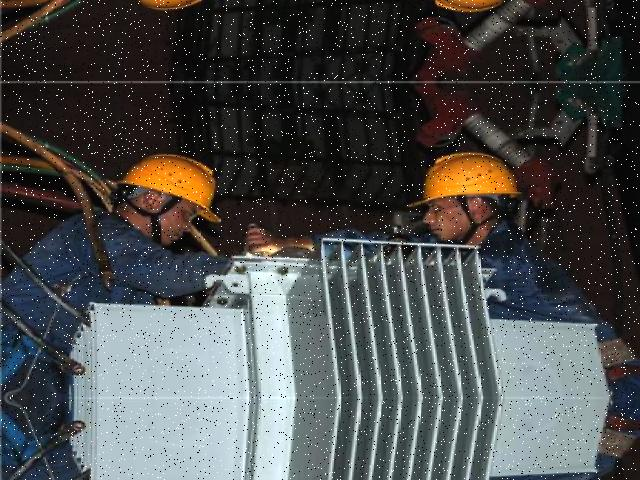Helmet: (105, 150, 224, 229), (403, 149, 519, 214)
